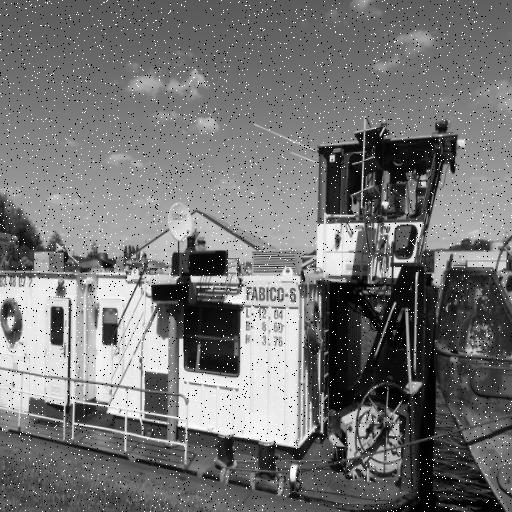tugboat: (1, 112, 469, 512)
